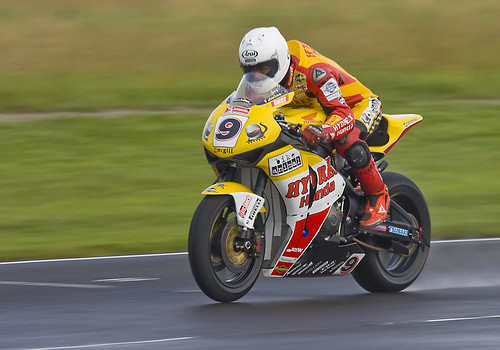helmet: (230, 20, 294, 71)
